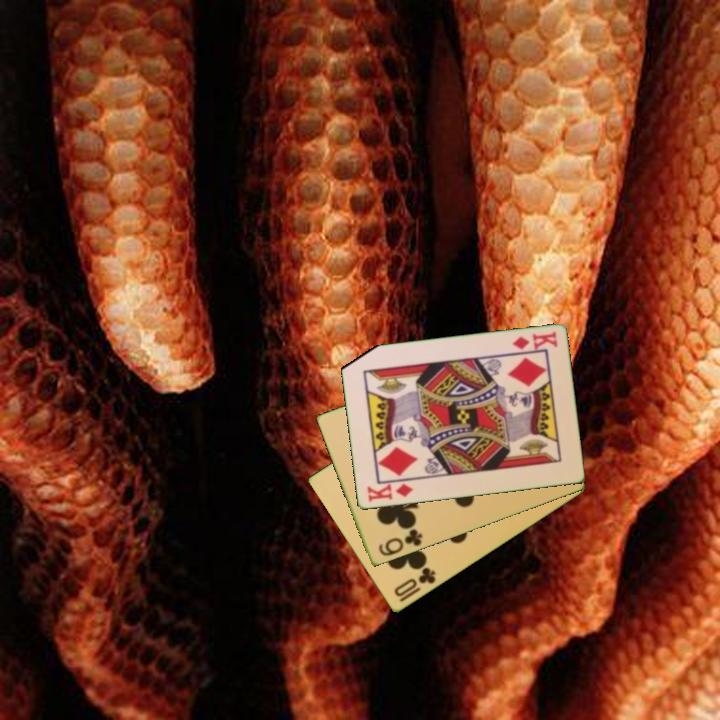10c: (390, 564, 439, 600)
6c: (375, 525, 425, 559)
Kd: (509, 328, 560, 353), (363, 481, 416, 505)
